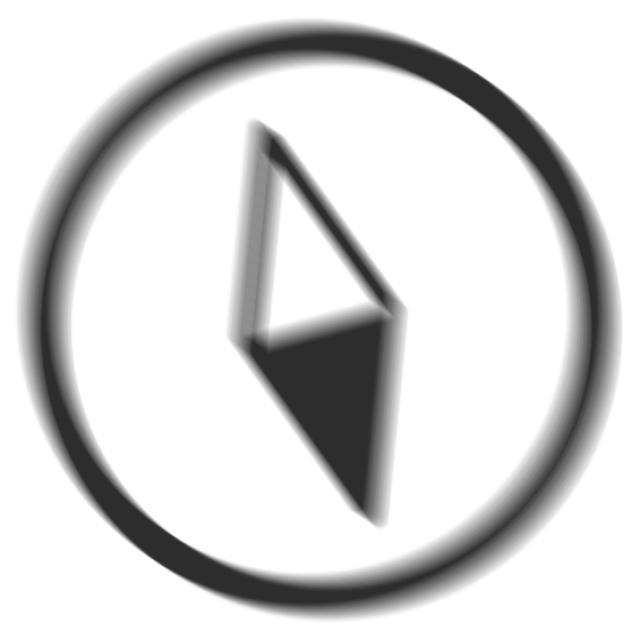compass: (11, 15, 631, 634)
